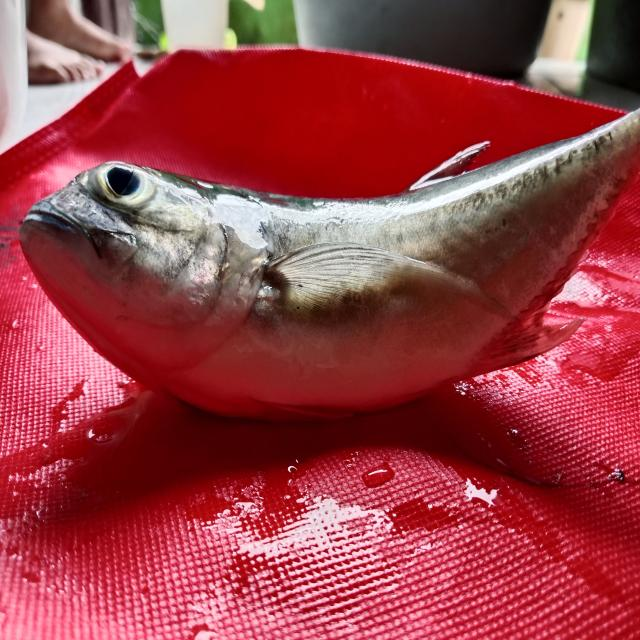ikan: (10, 86, 620, 430)
